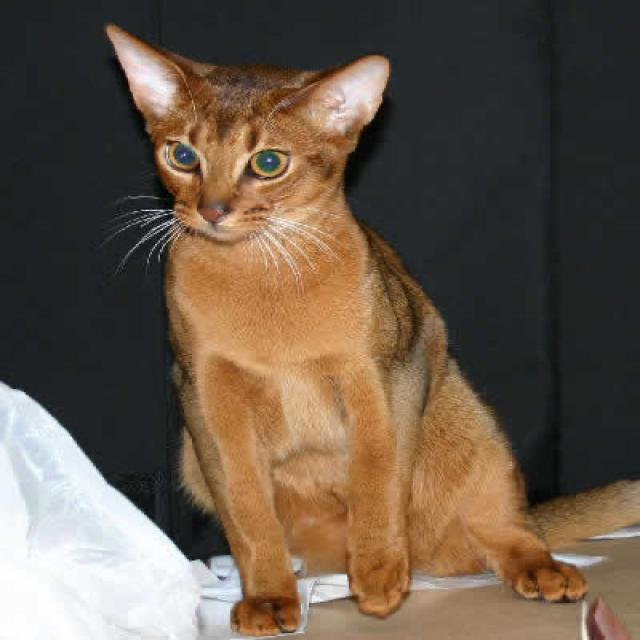cat: (102, 20, 388, 238)
